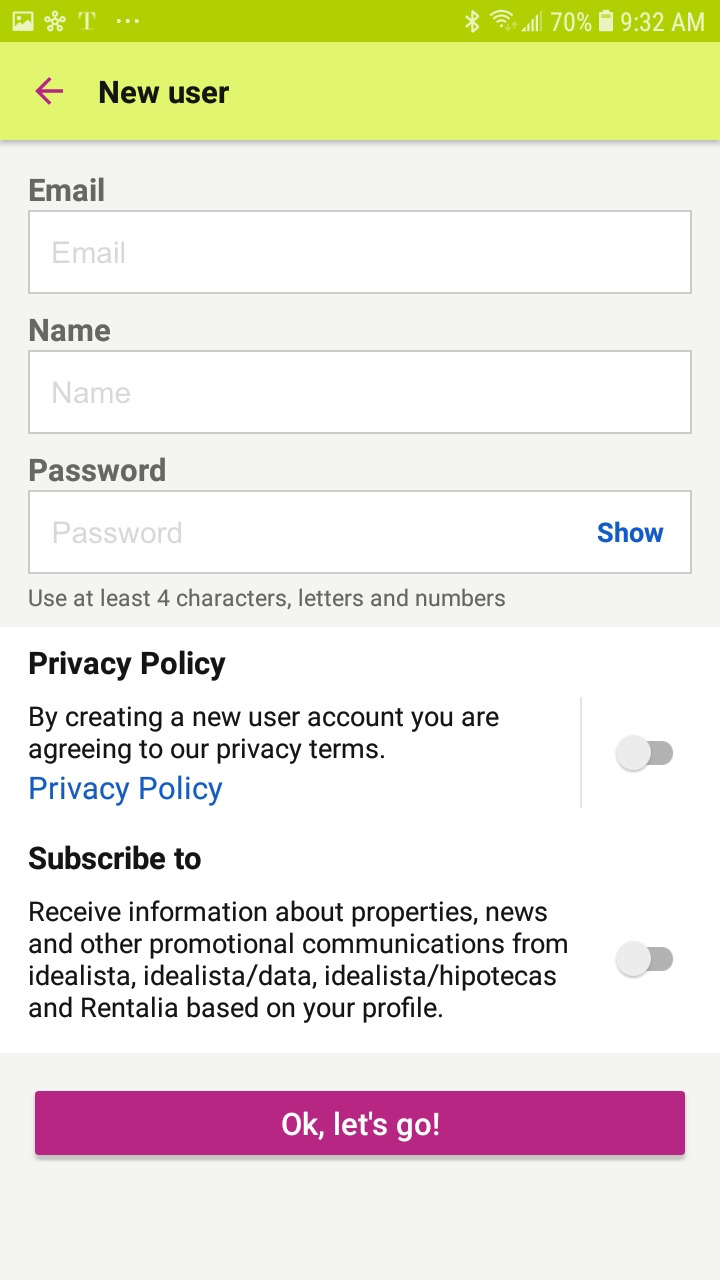EditText: (28, 350, 693, 435), (28, 210, 692, 295), (28, 490, 692, 575)
Icon: (36, 78, 65, 106)
Switch: (616, 735, 674, 772), (616, 940, 674, 977)
Text: (29, 901, 568, 1024), (30, 705, 500, 765), (29, 588, 506, 610), (30, 650, 227, 682), (30, 776, 224, 807), (29, 845, 202, 871), (31, 457, 167, 483), (100, 81, 230, 105), (55, 521, 183, 544), (31, 318, 112, 343), (30, 177, 105, 203), (53, 382, 132, 405), (53, 241, 125, 264), (597, 521, 664, 543)
TextButton: (36, 1090, 685, 1155)
UpperTaskBar: (1, 1, 720, 43)
